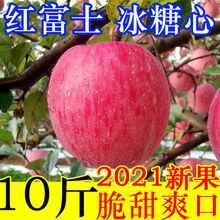apple: (46, 40, 165, 169)
